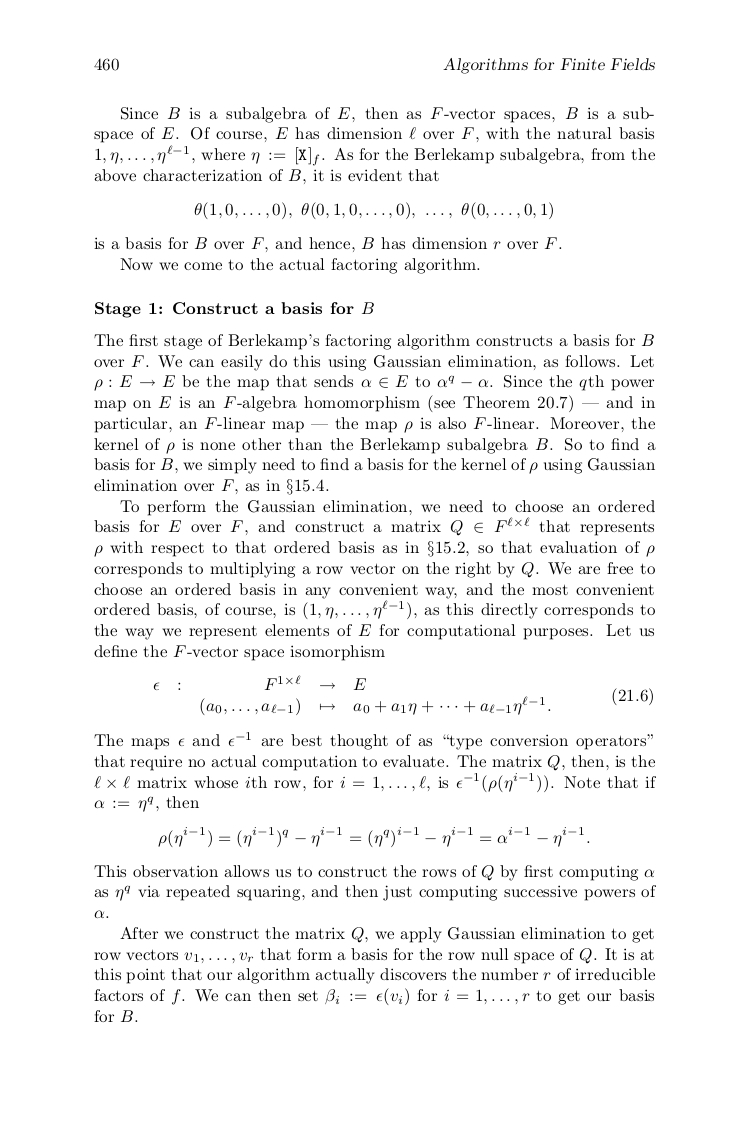formula: (153, 674, 652, 716), (158, 825, 589, 848), (194, 201, 552, 220)
